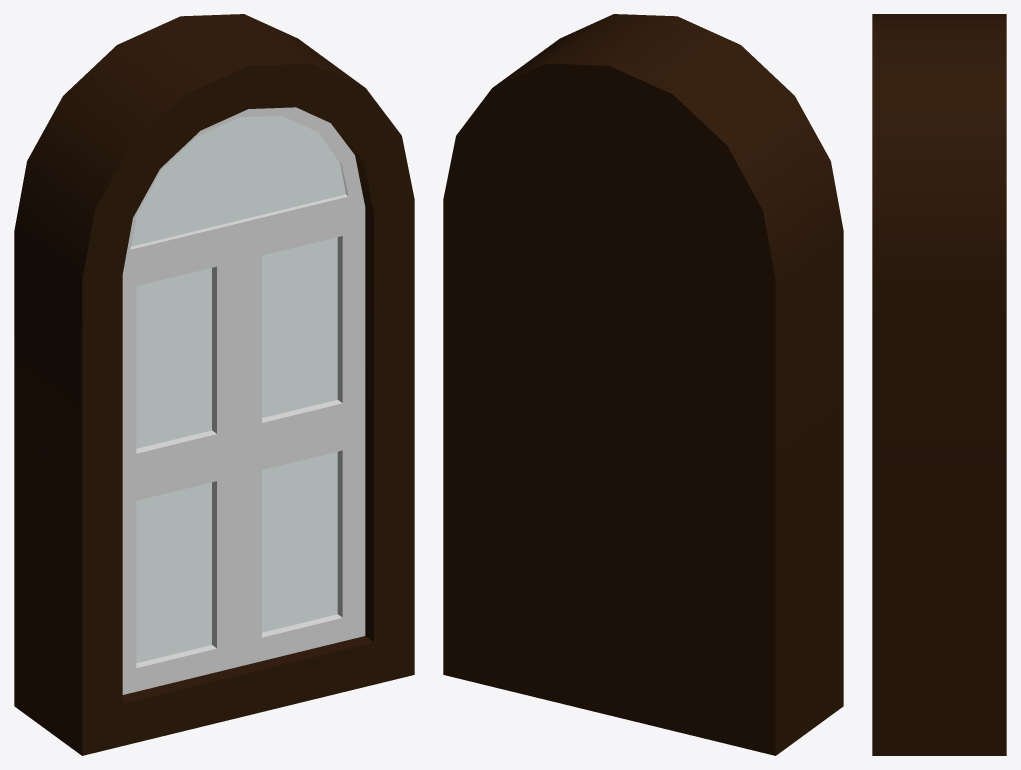
The model's file is window.fbx.
3 renders of one model, left to right at view 1: azimuth 30°, elevation 25°; view 2: azimuth 150°, elevation 25°; view 3: azimuth 270°, elevation 25°, orthographic.
Parts seen in each view (by area): view 1: Cylinder; view 2: Cylinder; view 3: Cylinder.
Part boxes in pixels (bbox=[...]): Cylinder: bbox=[14, 14, 414, 755]; Cylinder: bbox=[443, 14, 843, 755]; Cylinder: bbox=[872, 14, 1006, 755].
Bounding box in the file's own units: 200 × 373 × 70.65.
